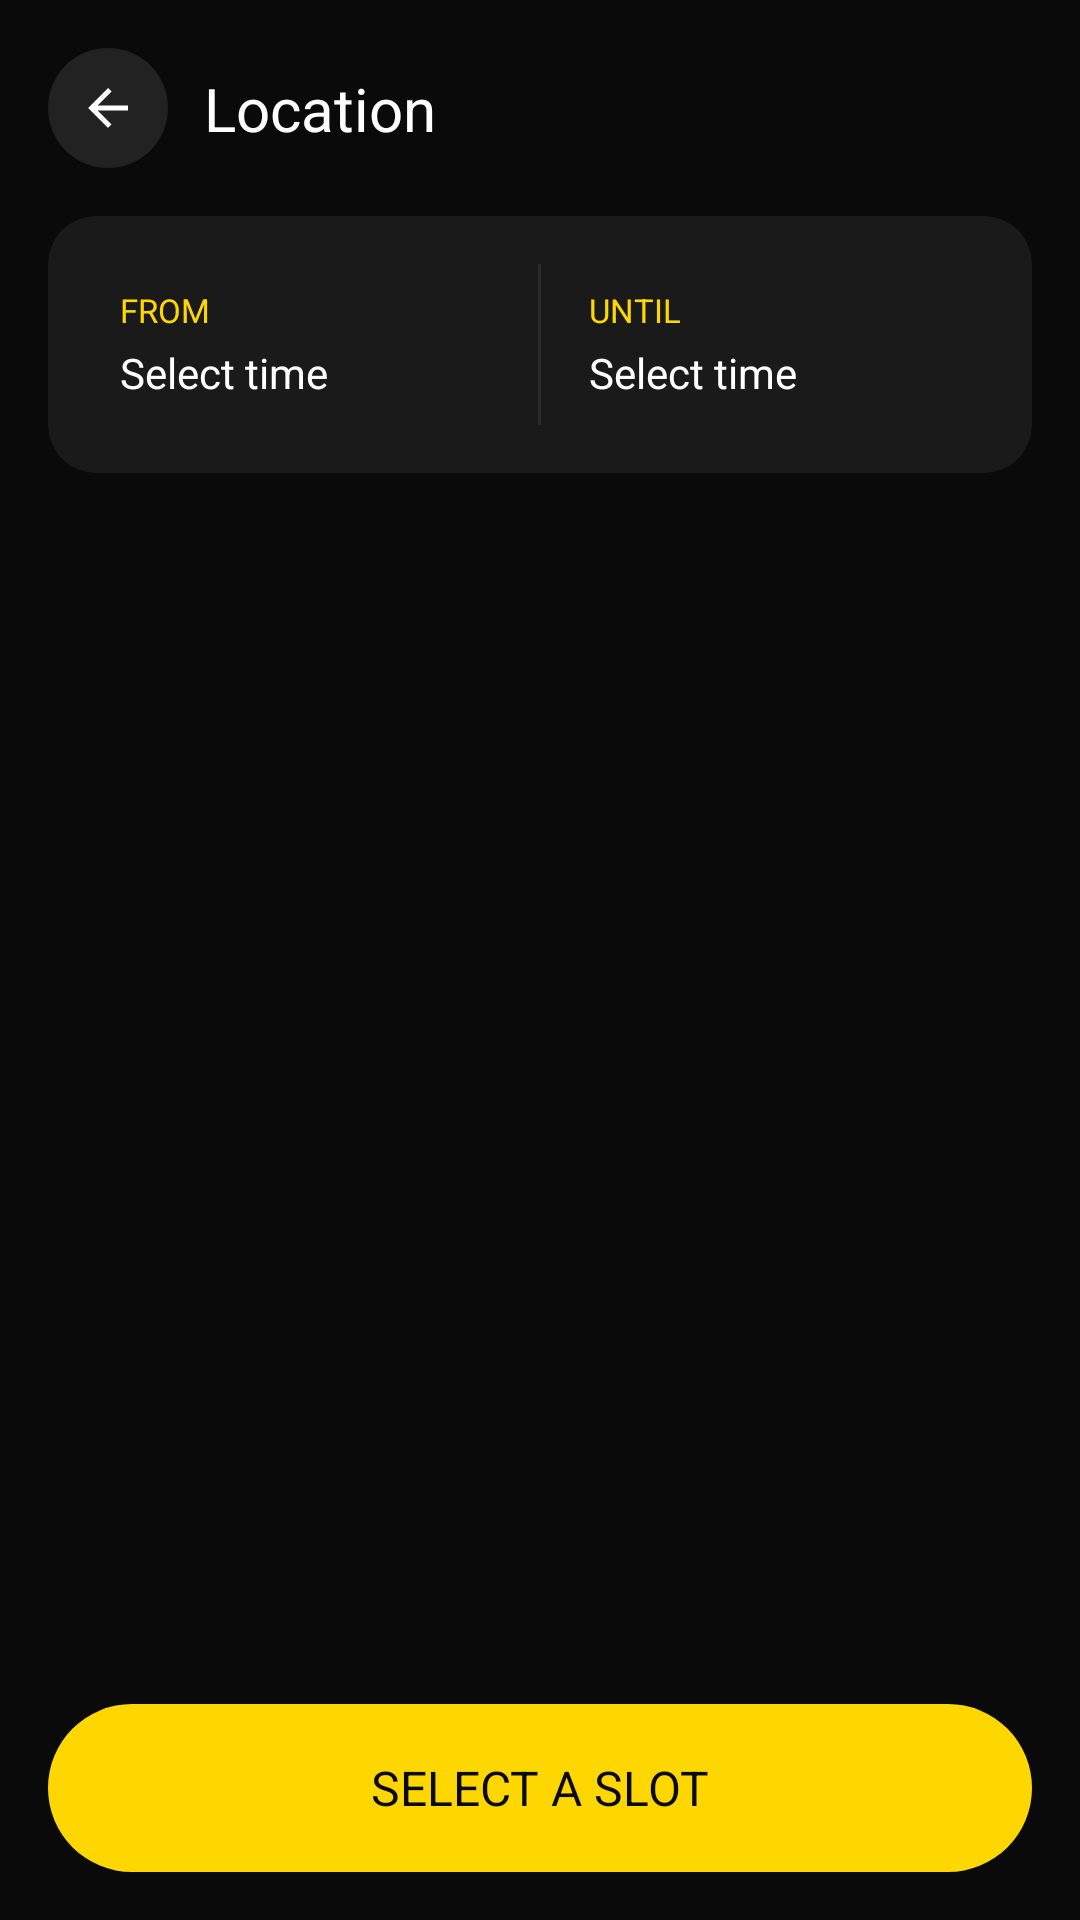

Screen size 1080 x 1920. Icon name, then its box in pixels as box(x1, y1, x2, y2):
Back: box(48, 48, 168, 168)
